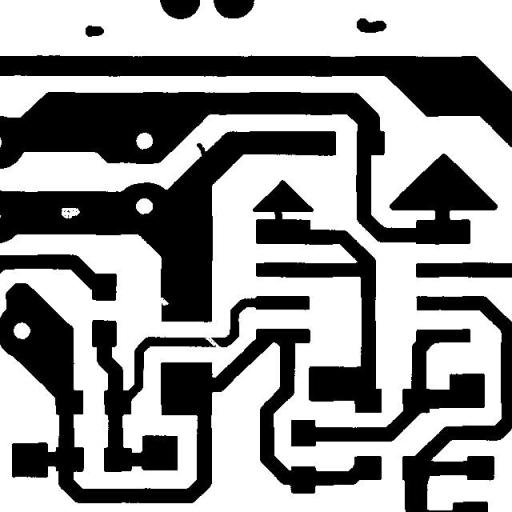copper: (348, 10, 394, 40), (78, 18, 111, 44)
mousebite: (149, 288, 176, 313)
open: (193, 327, 229, 356)
pin-hole: (54, 200, 87, 226)
short: (266, 202, 290, 228)
spur: (189, 135, 215, 163)
